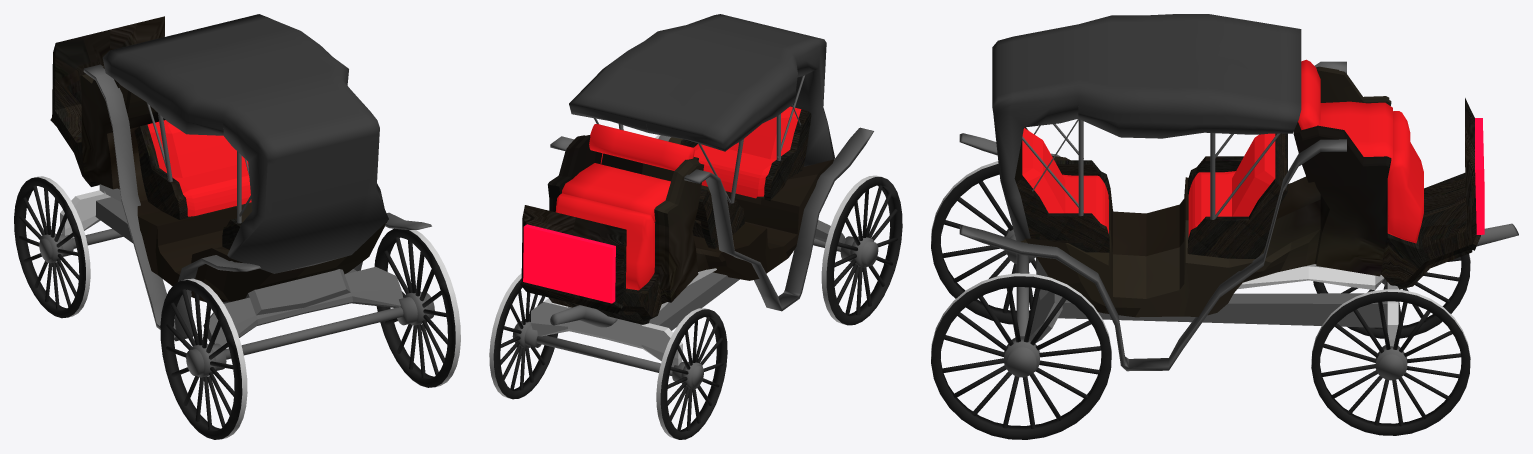
Rendered from carriage.fbx.
3 renders of one model, left to right at view 1: azimuth 30°, elevation 25°; view 2: azimuth 150°, elevation 25°; view 3: azimuth 270°, elevation 25°, orthographic. The views are drawn at different scales.
Parts seen in each view (by area): view 1: Tarp, Wheel.003, Body, Chair 2, Cube.002, Cube.005, Cube.001, Cube.003, Cylinder.001, Cube.004; view 2: Body, Tarp, Wheel.003, front chair, Chair 2, Cube.005, Cube.001, Cube.003, Cylinder.001, Cylinder; view 3: Body, Tarp, Wheel.003, Chair 2, front chair, Cube.004, Cube.003, Cylinder.001, Cube, Cube.002, Cube.005.
Part boxes in pixels (left/top/right/bottom): Tarp: left=102, top=14, right=388, bottom=273; Wheel.003: left=14, top=176, right=460, bottom=439; Body: left=50, top=16, right=387, bottom=301; Chair 2: left=134, top=120, right=251, bottom=249; Cube.002: left=203, top=266, right=403, bottom=346; Cube.005: left=83, top=64, right=260, bottom=341; Cube.001: left=60, top=184, right=110, bottom=238; Cube.003: left=95, top=197, right=356, bottom=303; Cylinder.001: left=147, top=103, right=251, bottom=223; Cube.004: left=353, top=212, right=431, bottom=271; Body: left=520, top=135, right=834, bottom=324; Tarp: left=569, top=14, right=834, bottom=166; Wheel.003: left=489, top=135, right=902, bottom=439; front chair: left=555, top=124, right=694, bottom=290; Chair 2: left=680, top=106, right=811, bottom=249; Cube.005: left=684, top=127, right=873, bottom=311; Cube.001: left=531, top=298, right=682, bottom=367; Cube.003: left=649, top=272, right=739, bottom=330; Cylinder.001: left=594, top=75, right=805, bottom=203; Cylinder: left=550, top=305, right=617, bottom=327; Body: left=1020, top=66, right=1484, bottom=317; Tarp: left=992, top=14, right=1301, bottom=241; Wheel.003: left=931, top=161, right=1470, bottom=439; Chair 2: left=1014, top=127, right=1287, bottom=258; front chair: left=1298, top=59, right=1423, bottom=243; Cube.004: left=959, top=139, right=1346, bottom=371; Cube.003: left=1058, top=293, right=1387, bottom=327; Cylinder.001: left=1022, top=119, right=1280, bottom=219; Cube: left=1237, top=264, right=1384, bottom=289; Cube.002: left=1029, top=256, right=1062, bottom=342; Cube.005: left=959, top=61, right=1346, bottom=211.
Bounding box in the file's own units: 5.19 × 6.35 × 10.16.
Materials: 7 (1 with a texture image).
